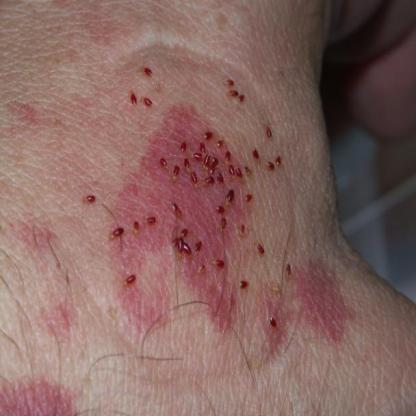Bed Bug: (109, 100, 250, 331), (298, 252, 358, 346), (0, 361, 77, 415), (255, 282, 296, 358), (38, 294, 92, 340), (11, 220, 72, 256), (4, 92, 45, 135)
